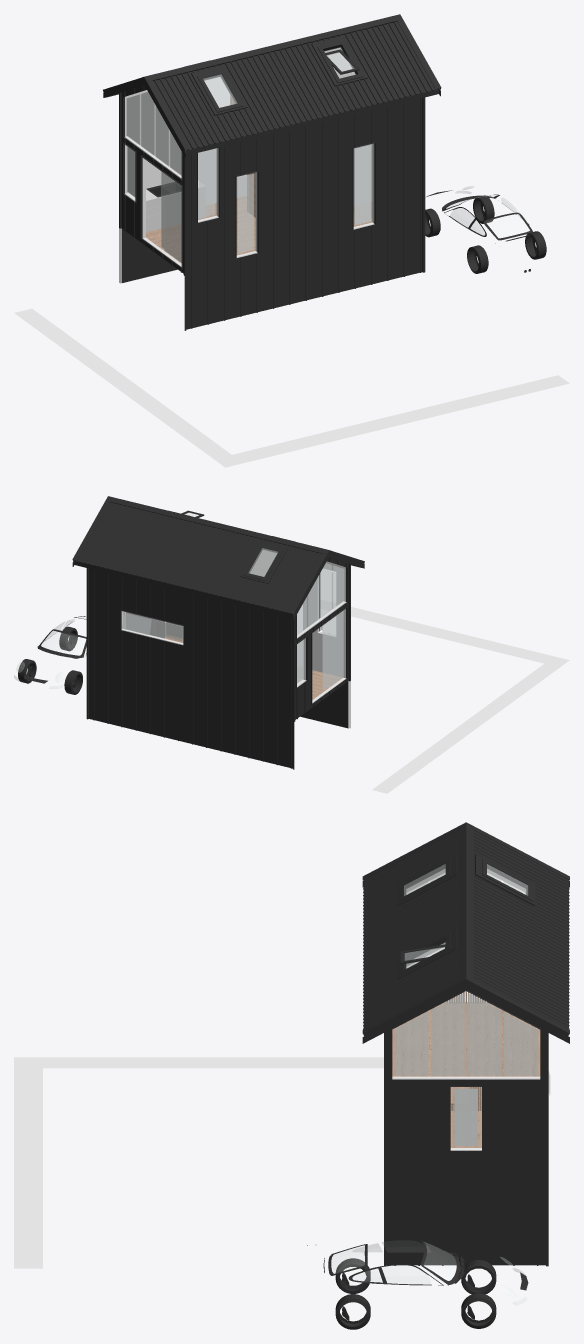
The model's file is small_villa.30b1db1ff85f.glb.
3 renders of one model, top to bottom at view 1: azimuth 30°, elevation 25°; view 2: azimuth 150°, elevation 25°; view 3: azimuth 270°, elevation 25°, orthographic. The views are drawn at different scales.
Parts seen in each view (by area): view 1: Material32 (×2), Material8, Material24, Material9, Material62, Material57, Material7; view 2: Material32 (×2), Material8, Material24, Material9, Material7; view 3: Material32 (×2), Material24, Material8, Material9, Material62.
Part boxes in pixels (<box>): Material32 (×2): <box>103,14,546,330</box>; Material8: <box>14,47,569,467</box>; Material24: <box>126,52,529,262</box>; Material9: <box>146,95,372,263</box>; Material62: <box>127,145,371,224</box>; Material57: <box>128,180,205,231</box>; Material7: <box>125,96,374,266</box>; Material32 (×2): <box>18,496,364,769</box>; Material8: <box>121,550,569,793</box>; Material24: <box>14,512,344,690</box>; Material9: <box>166,635,342,699</box>; Material7: <box>121,567,345,702</box>; Material32 (×2): <box>307,822,569,1329</box>; Material24: <box>331,864,550,1304</box>; Material8: <box>14,1057,540,1268</box>; Material9: <box>392,991,540,1147</box>; Material62: <box>454,1088,477,1145</box>.
Bounding box in the file's own units: 13.78 × 6.88 × 11.74.
12 materials, 2 textured.
